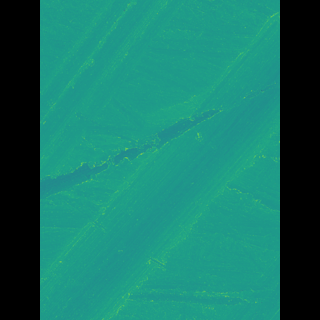Loch: (69, 5, 250, 320), (69, 0, 178, 178), (68, 105, 216, 202)
